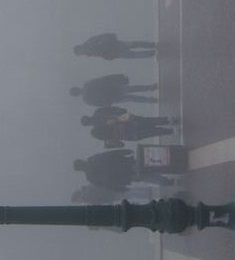person: (73, 150, 173, 190), (69, 72, 158, 107), (71, 31, 161, 63), (88, 122, 179, 148), (71, 186, 164, 202), (78, 107, 131, 127)
